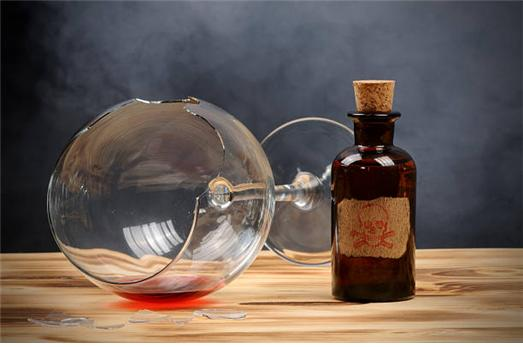alcohol: (48, 94, 361, 268), (330, 80, 417, 301)
